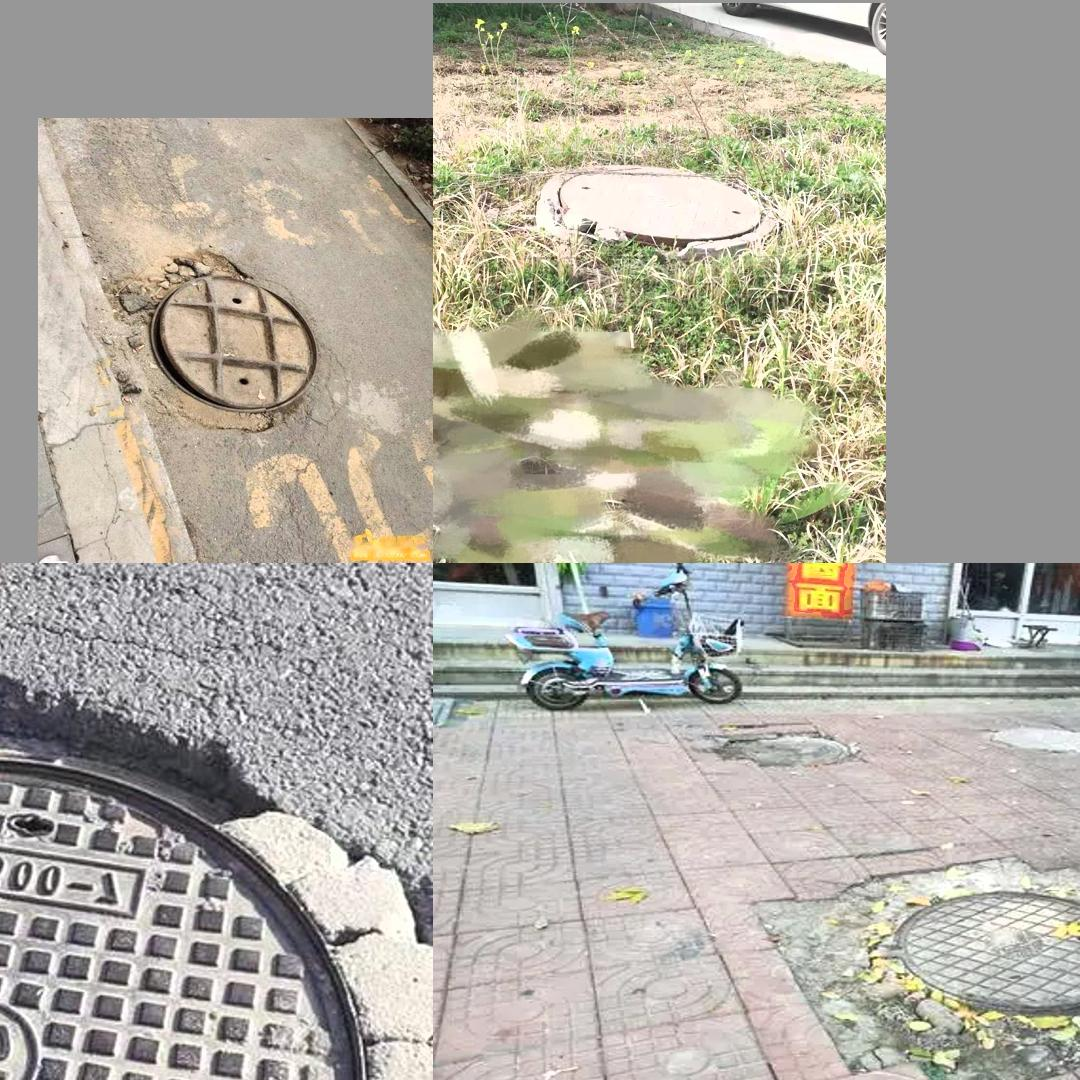circle: (0, 688, 404, 1080), (774, 855, 1080, 1080), (82, 232, 334, 454), (538, 158, 792, 260)
